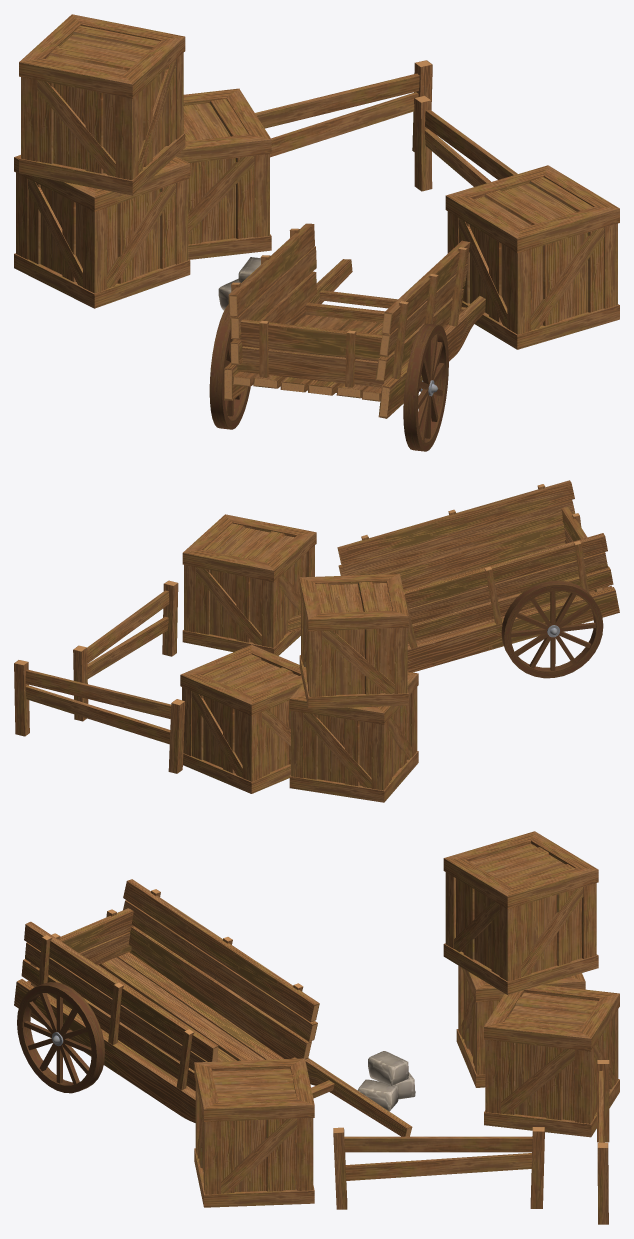
File: megakit_yard_corner.glb
3 renders of one model, top to bottom at view 1: azimuth 30°, elevation 25°; view 2: azimuth 150°, elevation 25°; view 3: azimuth 270°, elevation 25°, orthographic. The views are drawn at different scales.
Visible parts, largest first — view 1: megakit_yard_corner; view 2: megakit_yard_corner; view 3: megakit_yard_corner.
Boxes of the visible parts, x1,y1,x2,y2 form: megakit_yard_corner: (14,14,619,451); megakit_yard_corner: (14,480,619,802); megakit_yard_corner: (14,831,619,1224).
Bounding box in the file's own units: 4.77 × 2.15 × 5.91.
Materials: 3 (3 with a texture image).
